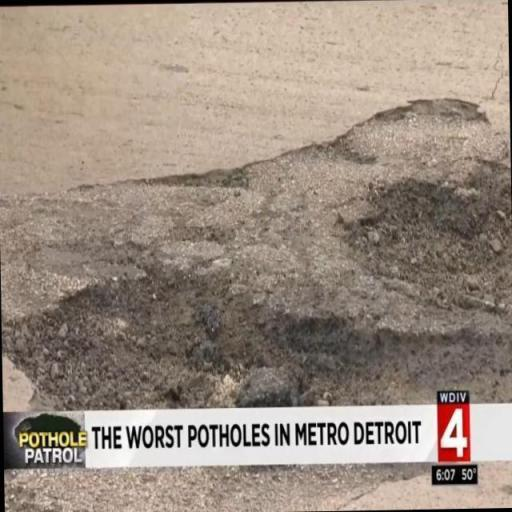pothole: (0, 186, 61, 512)
